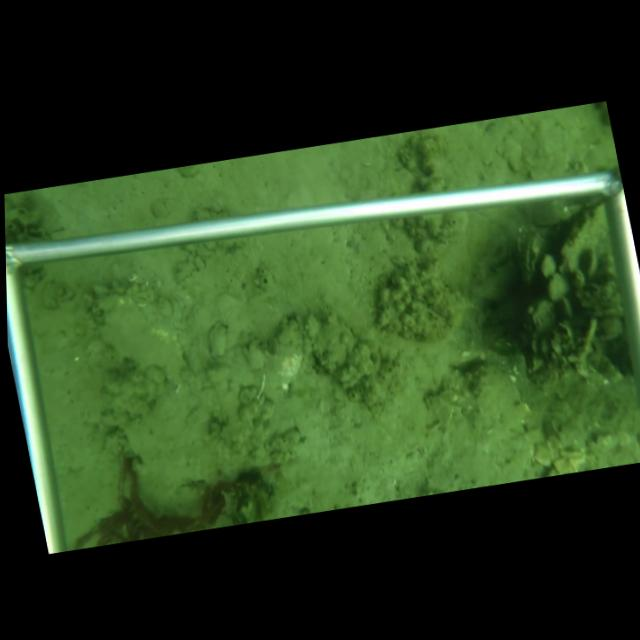Oyster-Closed: (511, 225, 557, 291)
Oyster-Indeterminate: (275, 311, 307, 384)
